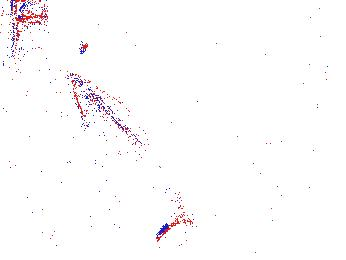X-ray fish: (1, 1, 49, 68)
glassfish: (66, 73, 191, 235)
